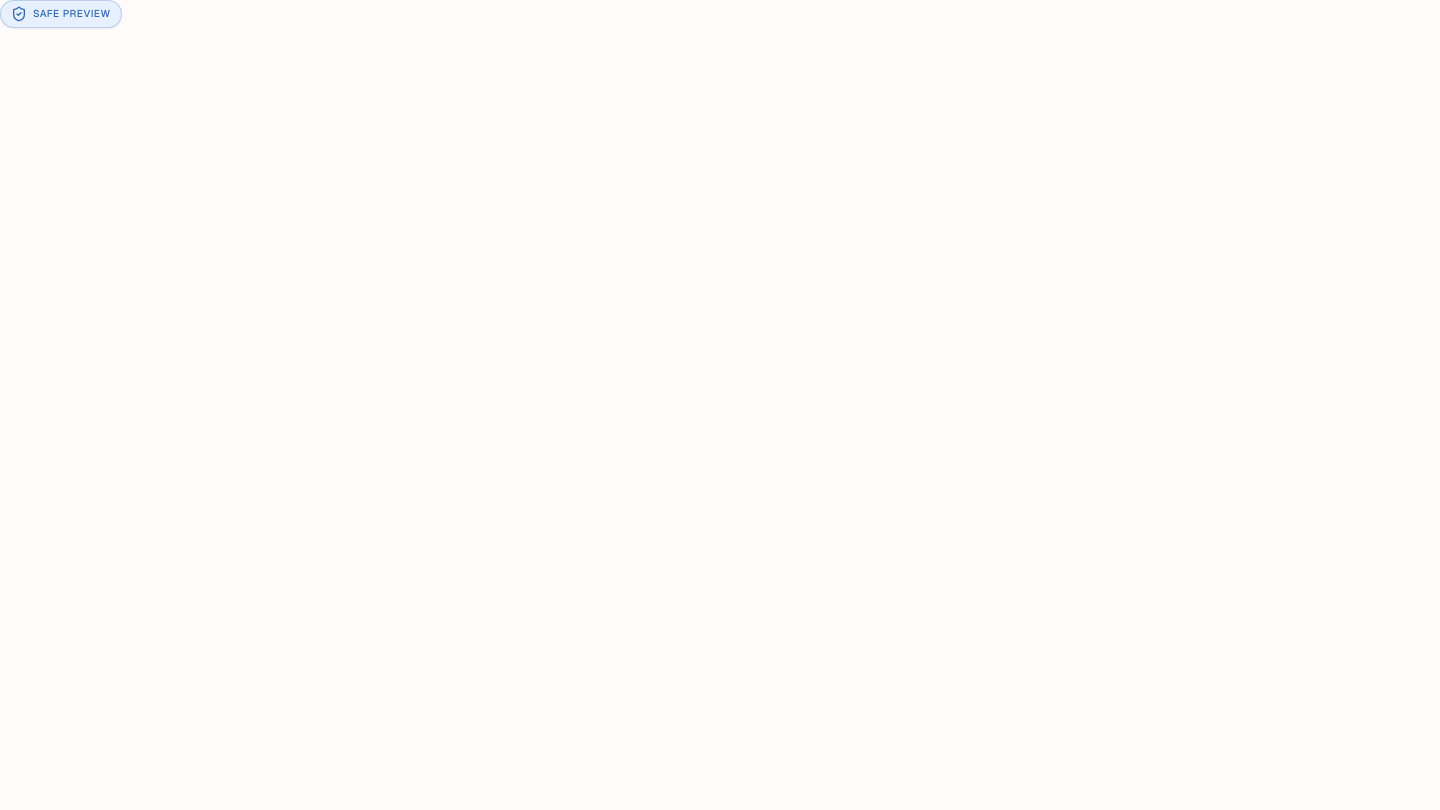
Test case: PreviewStatus fidelity guidance › presents the compatible security profile as a safe neutral state instead of an issue
Click the button "Safe preview" at coordinates (61, 14), box 0,0 -> 122,28
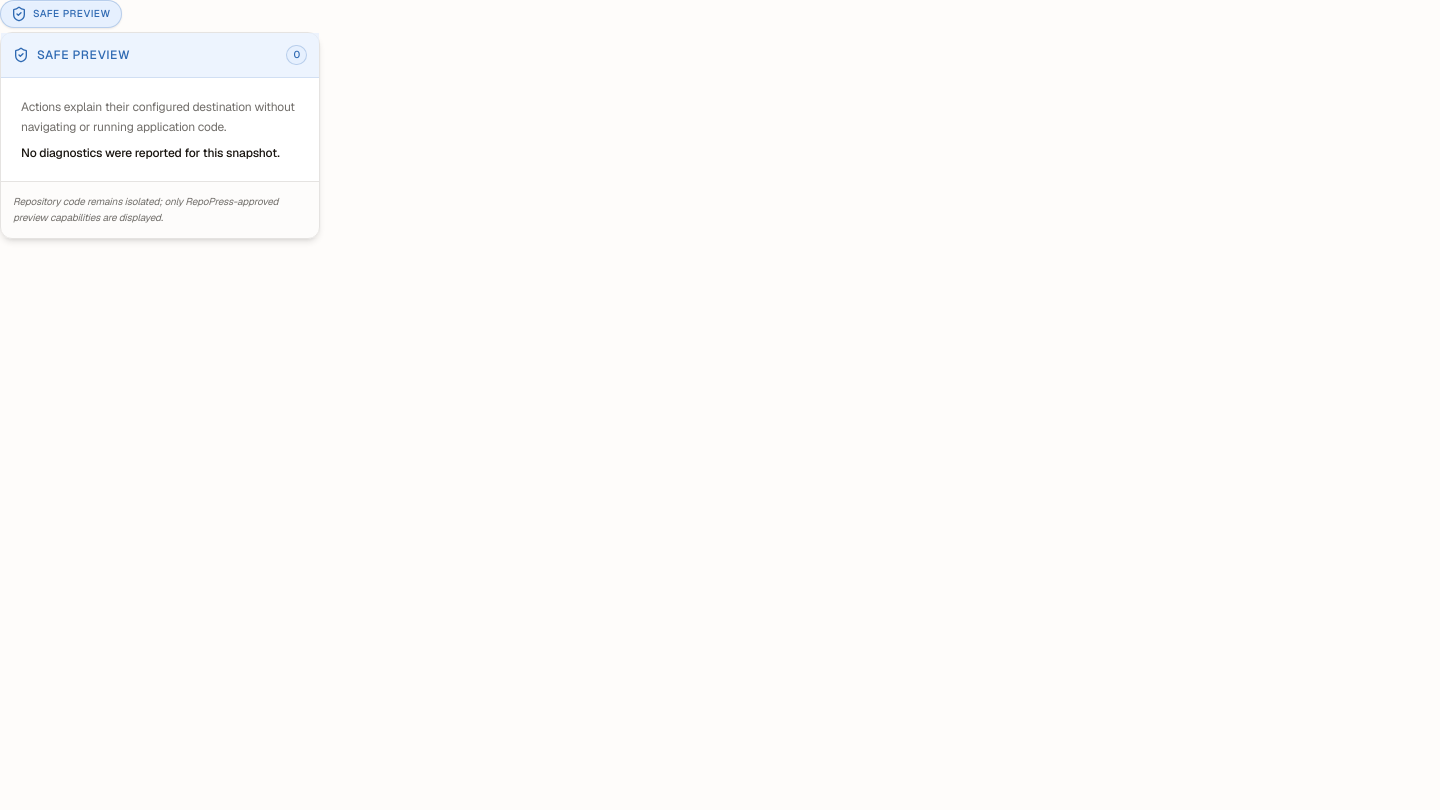
Expected: the text "without navigating or running application code" is shown, 21,99 -> 295,134
